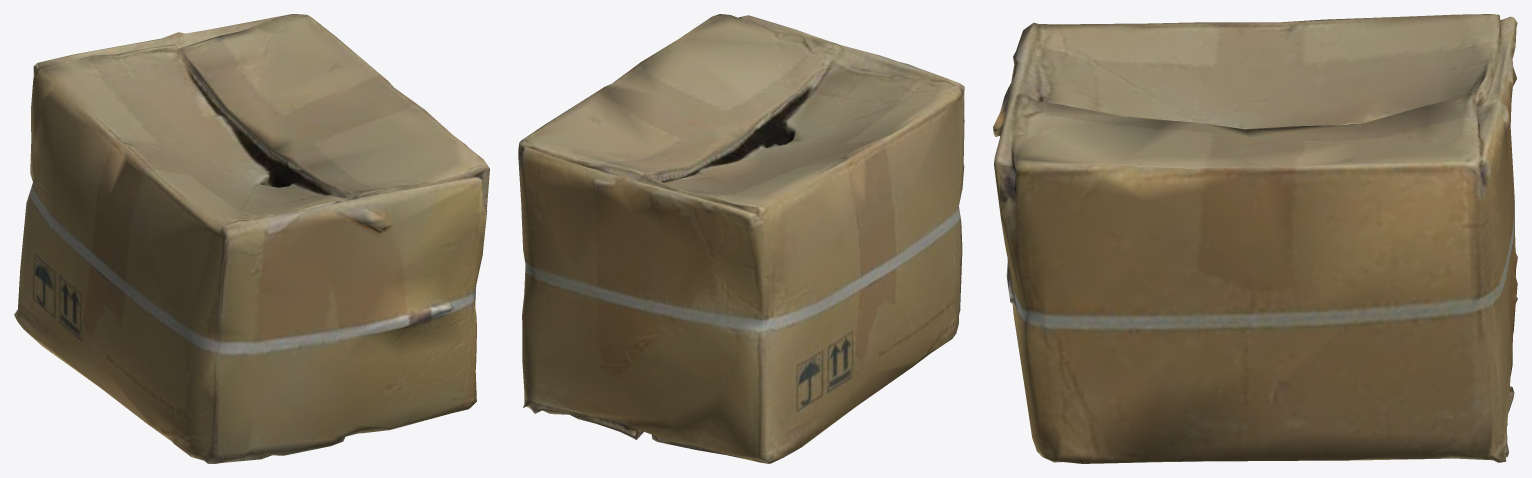
The model's file is cardboard_box_01.glb.
3 renders of one model, left to right at view 1: azimuth 30°, elevation 25°; view 2: azimuth 150°, elevation 25°; view 3: azimuth 270°, elevation 25°, orthographic. The views are drawn at different scales.
Parts seen in each view (by area): view 1: cardboard_box_01; view 2: cardboard_box_01; view 3: cardboard_box_01.
Boxes of the visible parts, x1,y1,x2,y2 form: cardboard_box_01: (14, 14, 489, 463); cardboard_box_01: (518, 14, 964, 463); cardboard_box_01: (993, 14, 1517, 463).
Bounding box in the file's own units: 0.3868 × 0.3407 × 0.5159.
Materials: 1 (1 with a texture image).
